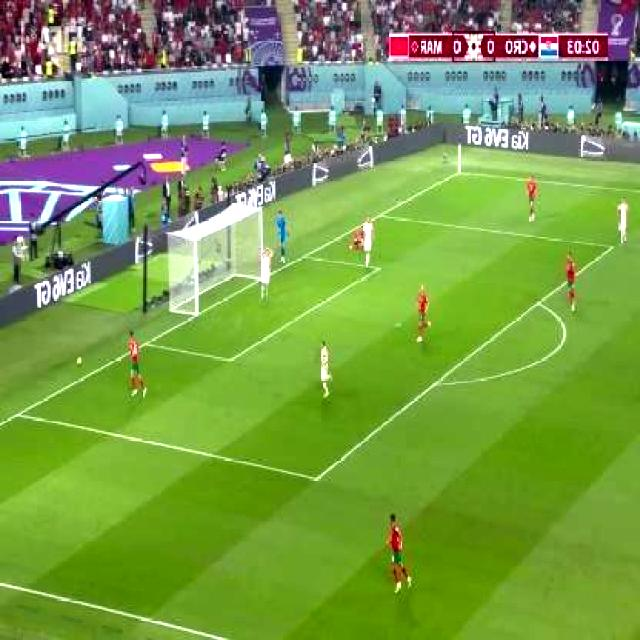bigarea_bottom_inner: (308, 464, 328, 490)
bigarea_bottom_outter: (9, 403, 28, 425)
bigarea_top_inner: (606, 235, 623, 257)
bigarea_top_outter: (374, 206, 388, 223)
bottom_arc_area_intersection: (428, 372, 444, 394)
corner: (454, 164, 469, 178)
smallarea_bottom_inner: (220, 345, 242, 372)
smallarea_bottom_outter: (138, 334, 156, 354)
smallarea_top_inner: (370, 257, 388, 278)
smallarea_top_outter: (298, 246, 314, 265)
top_arc_area_intersection: (530, 291, 548, 312)
